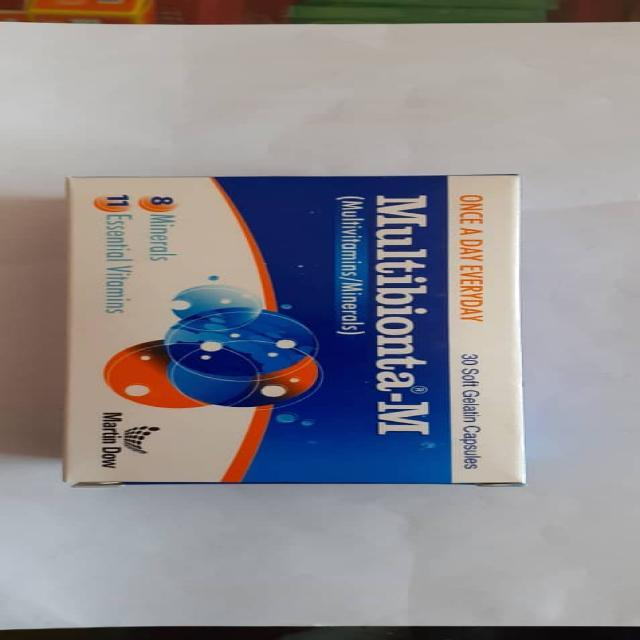drug-name: (373, 183, 433, 441)
